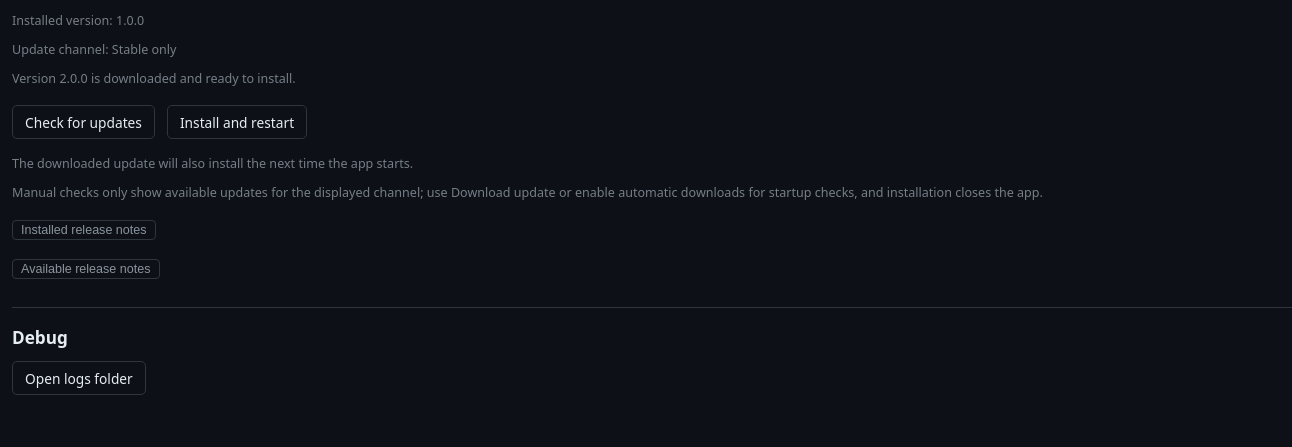
Updates settings › reports a failed folder open and clears the error after a successful retry
Click the button "Open logs folder" at (79, 378), box [12,361,146,395]
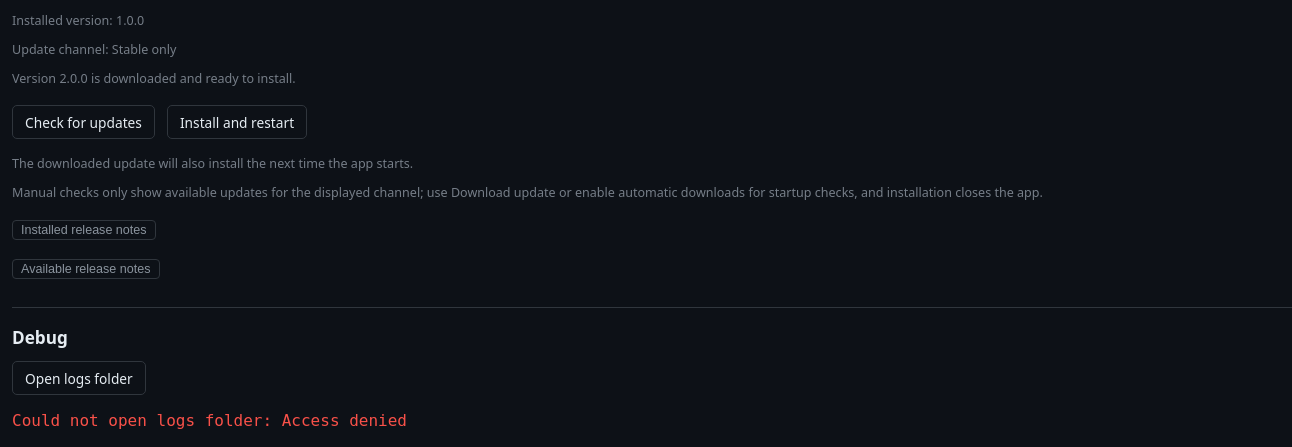
Now the message "Could not open logs folder: Access denied" is shown, box [12,411,407,430]
Click the button "Open logs folder" at (79, 378), box [12,361,146,395]
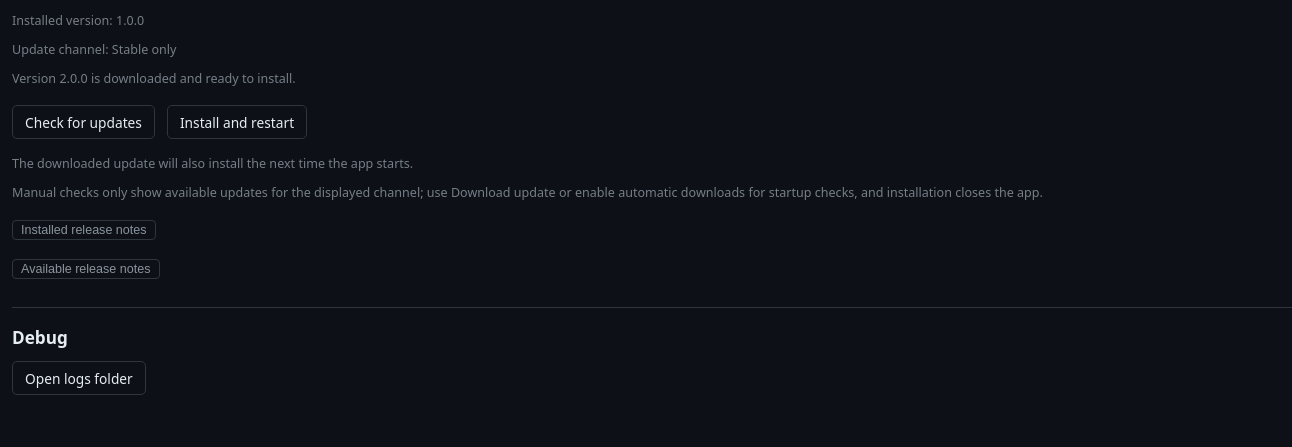
Now the message "Could not open logs folder: Access denied" is gone
